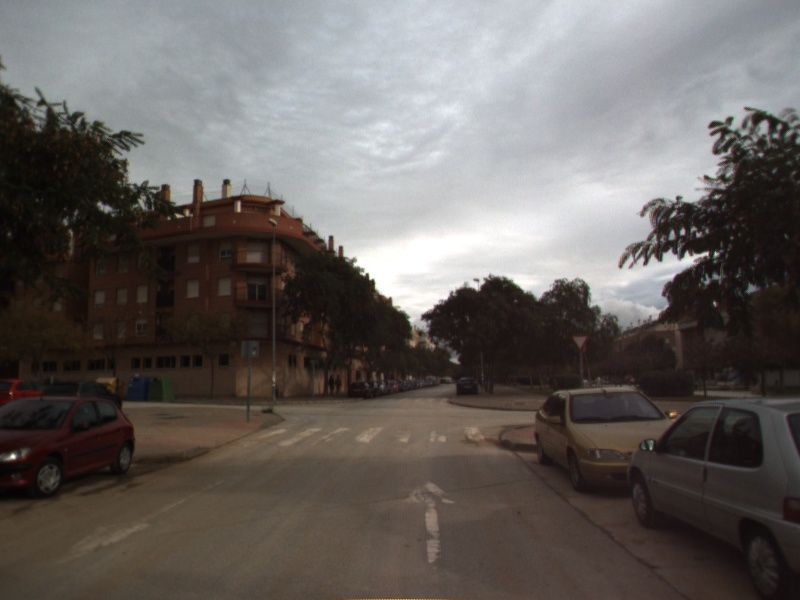STRAIGHT: (399, 478, 459, 566)
